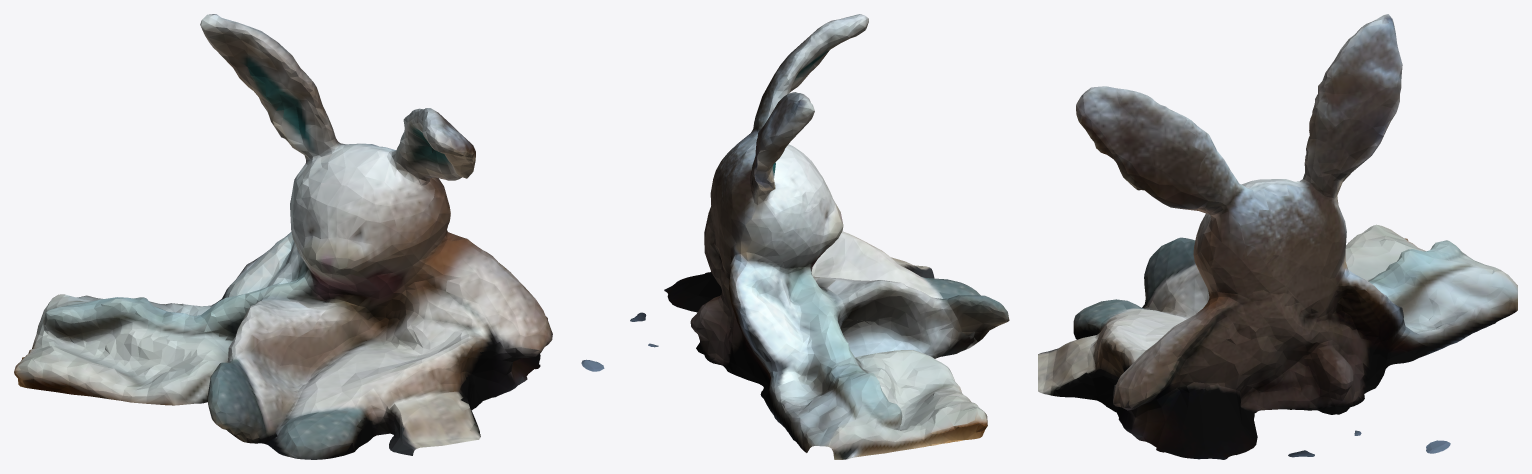
The model's file is doudoufinal.fbx.
3 renders of one model, left to right at view 1: azimuth 30°, elevation 25°; view 2: azimuth 150°, elevation 25°; view 3: azimuth 270°, elevation 25°, orthographic. The views are drawn at different scales.
Parts seen in each view (by area): view 1: Doudou; view 2: Doudou; view 3: Doudou.
Part boxes in pixels (x1,y1,x2,y2): Doudou: [14, 14, 552, 459]; Doudou: [581, 14, 1009, 459]; Doudou: [1038, 14, 1517, 459].
Size of the model in its own units: 20.16 by 14.41 by 19.07.
